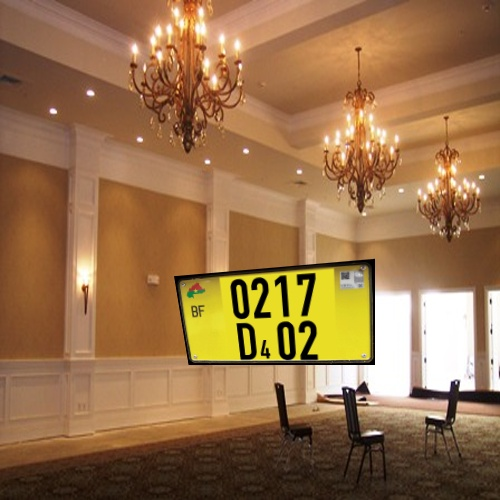plate: (164, 248, 378, 379)
